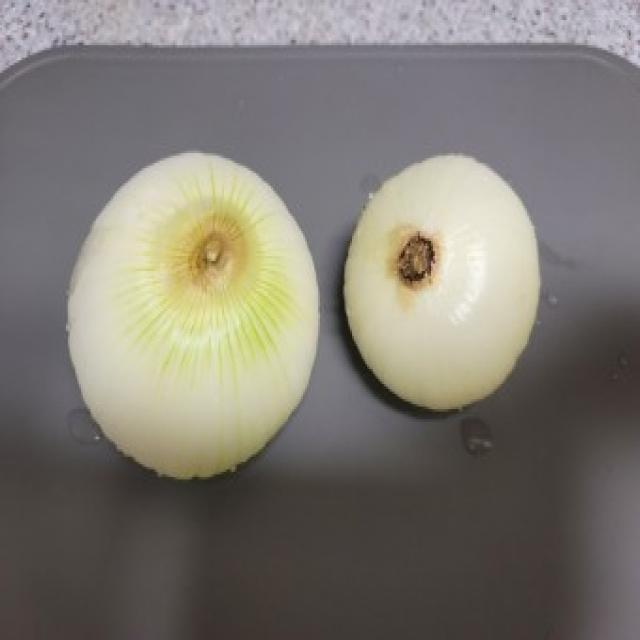onion: (44, 134, 335, 514), (339, 138, 571, 438)
